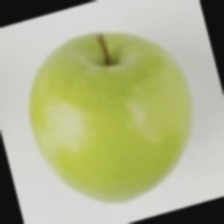apple: (46, 19, 199, 219)
